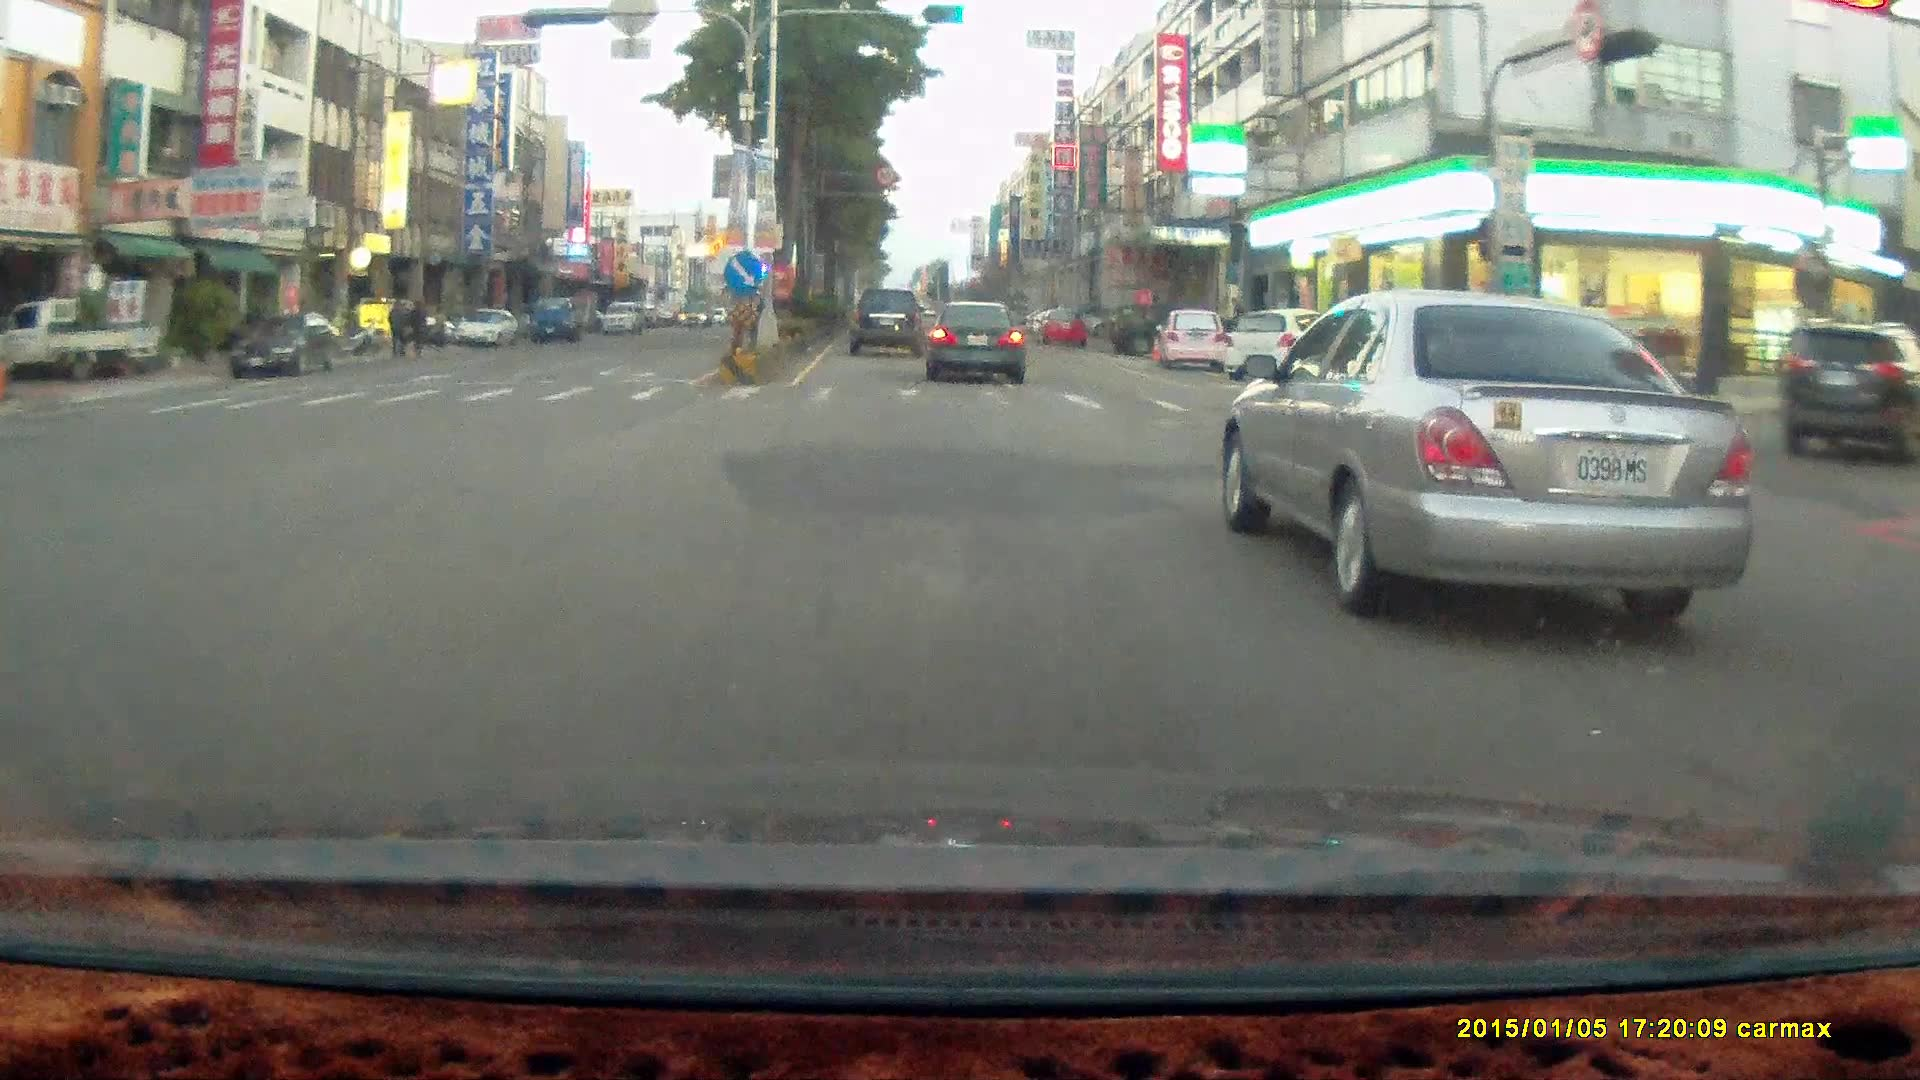pedestrian: (404, 287, 431, 354), (385, 294, 409, 358), (406, 295, 429, 360), (385, 291, 405, 356)
vehicle: (1227, 286, 1760, 626), (1783, 318, 1920, 458), (1300, 302, 1445, 397), (0, 297, 159, 379), (11, 302, 160, 385), (1223, 303, 1346, 379), (927, 298, 1025, 381), (928, 298, 1028, 379), (226, 310, 342, 377), (227, 309, 339, 374), (848, 288, 928, 360), (846, 287, 923, 357), (1154, 305, 1232, 371), (1154, 305, 1228, 368), (1108, 299, 1187, 353), (459, 305, 522, 349), (528, 294, 586, 339), (452, 305, 517, 344), (528, 292, 577, 340), (1036, 300, 1084, 339), (600, 298, 644, 333)
